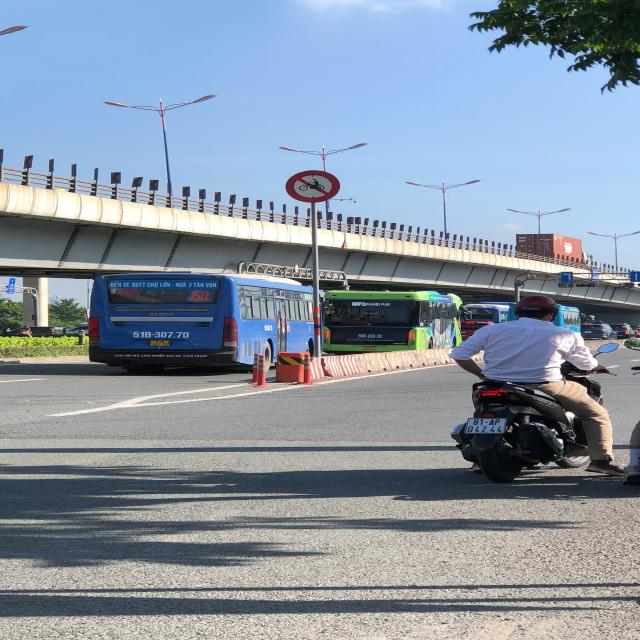Bien bao cam xe may: (284, 168, 339, 204)
